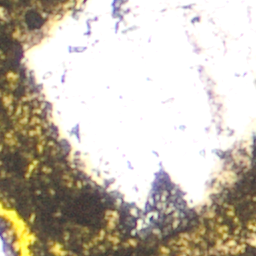cement_matrix: (0, 0, 255, 255), (0, 218, 15, 255), (112, 0, 125, 19), (220, 241, 239, 250), (54, 246, 61, 253)
cracks: (0, 200, 33, 255), (0, 233, 12, 255)
gravel_crushed_stones: (23, 0, 255, 228), (221, 242, 238, 249), (249, 231, 255, 244), (0, 241, 5, 255), (55, 247, 60, 252)
